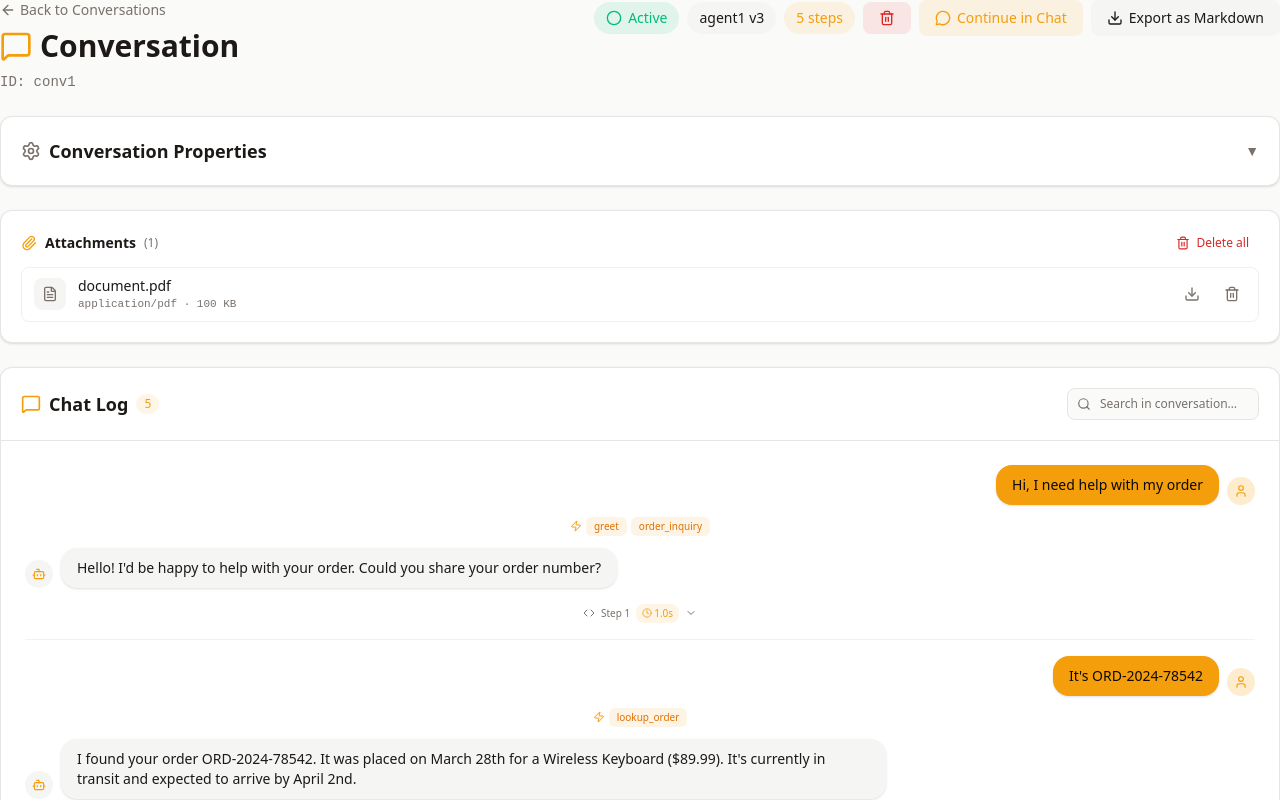
Test: ConversationDetailPage › expands conversation properties on click
This screenshot has width=1280, height=800.
Click the heading "Conversation Properties".
click(158, 151)  # box [49,137,267,165]
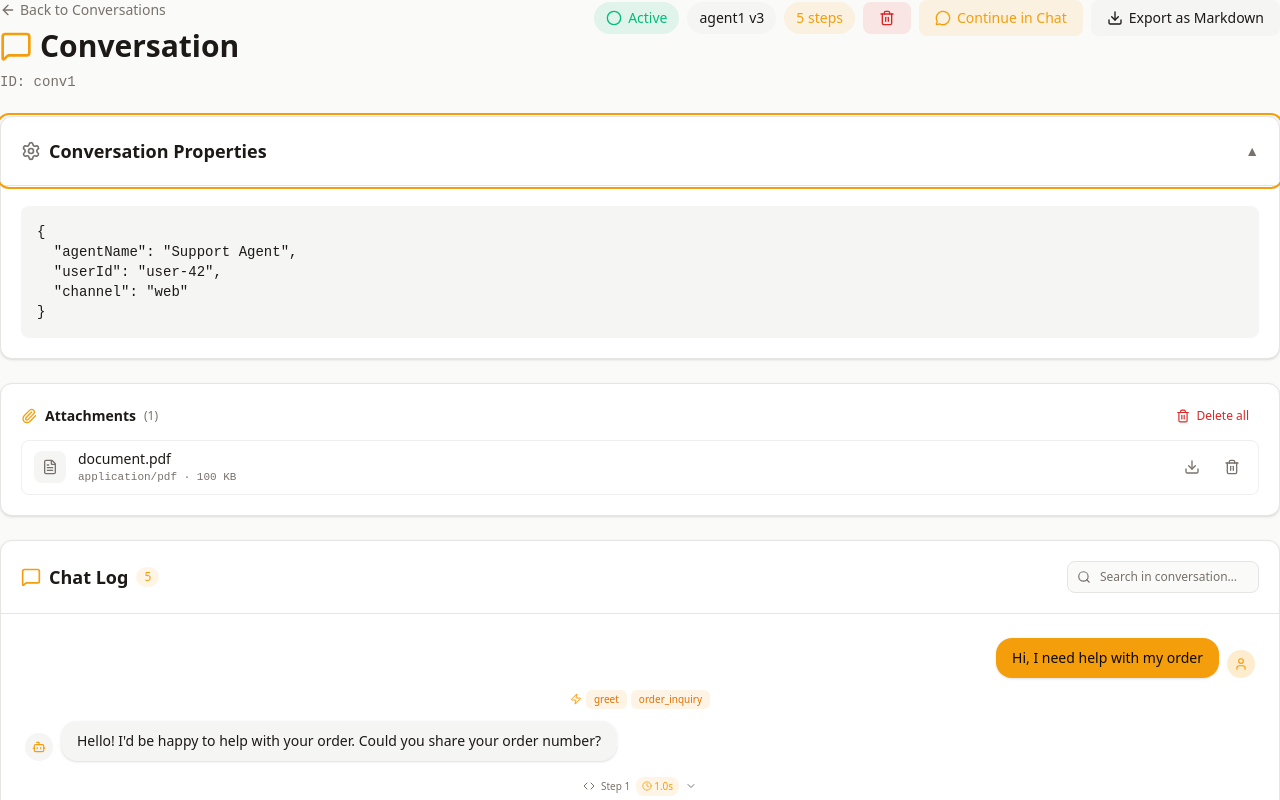
Now the text with test id "properties-json" shows "agentName", box [37,224,298,320]
